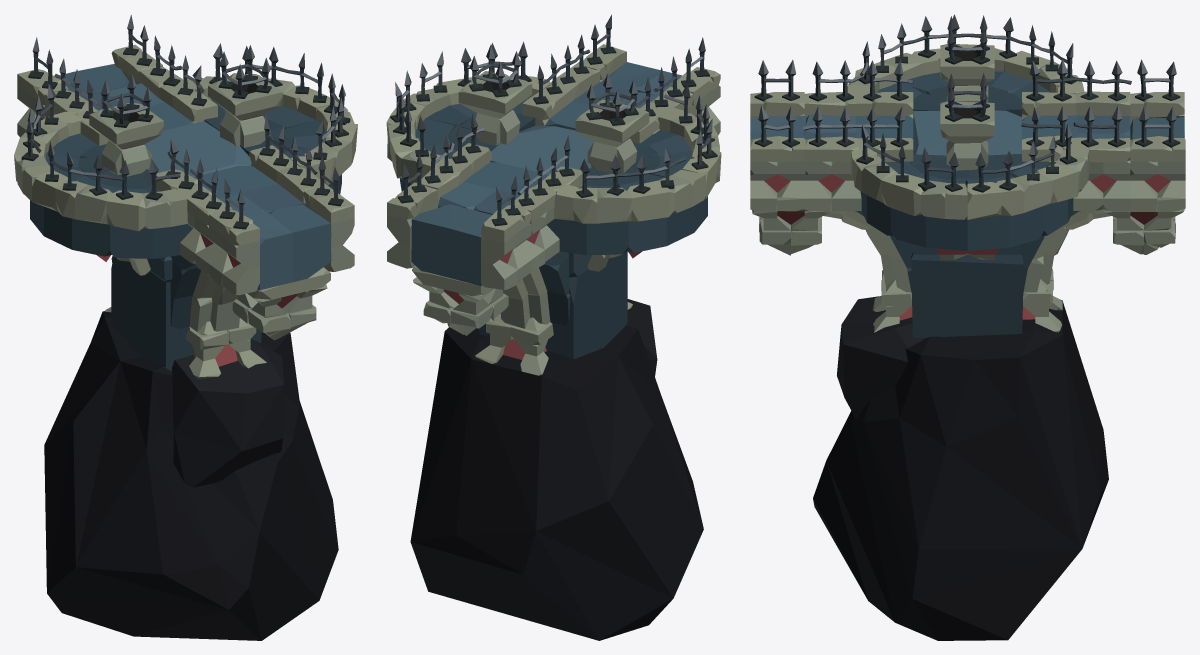
File: bridge_I_02_alcoves.fbx
3 renders of one model, left to right at view 1: azimuth 30°, elevation 25°; view 2: azimuth 150°, elevation 25°; view 3: azimuth 270°, elevation 25°, orthographic.
Parts seen in each view (by area): view 1: bridge_I_02_alcoves; view 2: bridge_I_02_alcoves; view 3: bridge_I_02_alcoves.
Boxes of the visible parts, x1,y1,x2,y2 form: bridge_I_02_alcoves: (14, 15, 357, 640); bridge_I_02_alcoves: (386, 14, 721, 640); bridge_I_02_alcoves: (750, 14, 1185, 640).
Size of the model in its own units: 650 by 1102 by 802.
